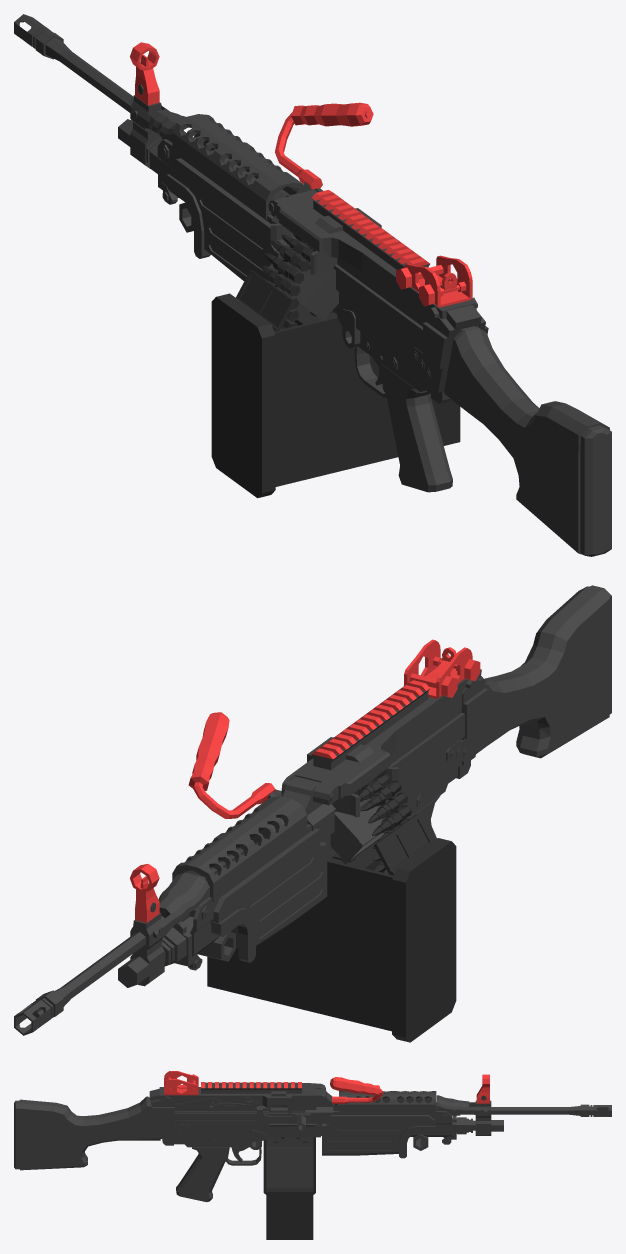
File: lmg_3.glb
The picture shows the model from 3 angles, top to bottom: view 1: azimuth 30°, elevation 25°; view 2: azimuth 150°, elevation 25°; view 3: azimuth 270°, elevation 25°; orthographic projection. The views are drawn at different scales.
Parts seen in each view (by area): view 1: p101_mag, p99_paint, p14_paint, p17_paint, p74_paint, p24_paint, p26_paint, p100_paint, p87_paint, p0_paint, p19_del, p83_del (+9 smaller); view 2: p101_mag, p99_paint, p17_paint, p14_paint, p24_paint, p26_paint, p0_paint, p19_del, p6_paint, p87_paint, p31_paint, p83_del (+10 smaller); view 3: p99_paint, p101_mag, p17_paint, p26_paint, p24_paint, p14_paint, p74_paint, p0_paint, p87_paint, p19_del, p36_paint, p64_paint (+15 smaller).
Boxes of the visible parts, x1,y1,x2,y2 form: p101_mag: (211,233,460,498); p99_paint: (444,326,609,554); p14_paint: (172,114,303,219); p17_paint: (169,150,279,282); p74_paint: (381,363,452,492); p24_paint: (269,188,476,322); p26_paint: (333,258,426,381); p100_paint: (580,425,611,556); p87_paint: (410,305,488,403); p0_paint: (14,14,253,184); p19_del: (275,102,373,189); p83_del: (404,255,472,307); p101_mag: (207,773,456,1042); p99_paint: (476,586,609,758); p17_paint: (201,828,327,948); p14_paint: (172,796,307,901); p24_paint: (281,678,468,805); p26_paint: (321,707,464,860); p0_paint: (14,842,257,1035); p19_del: (188,712,275,818); p6_paint: (131,872,209,937); p87_paint: (446,669,488,778); p31_paint: (330,800,398,864); p83_del: (404,639,472,698); p99_paint: (19,1096,160,1170); p101_mag: (263,1105,315,1239); p17_paint: (322,1115,434,1155); p26_paint: (174,1106,320,1138); p24_paint: (159,1083,326,1113); p14_paint: (339,1091,436,1113); p74_paint: (176,1147,227,1202); p0_paint: (436,1104,611,1116); p87_paint: (149,1088,190,1145); p19_del: (330,1077,383,1103); p36_paint: (201,1082,301,1093); p64_paint: (174,1136,249,1147).
Size of the model in its own units: 0.2094 by 0.3045 by 1.04.
